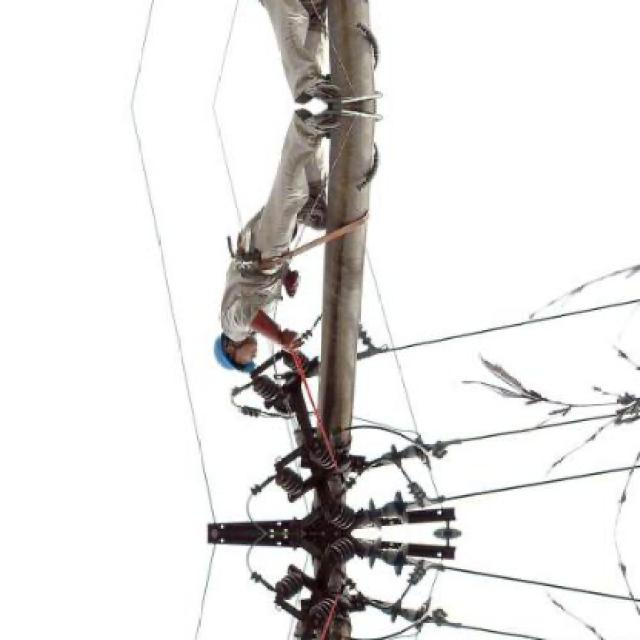con casco: (226, 310, 302, 392)
